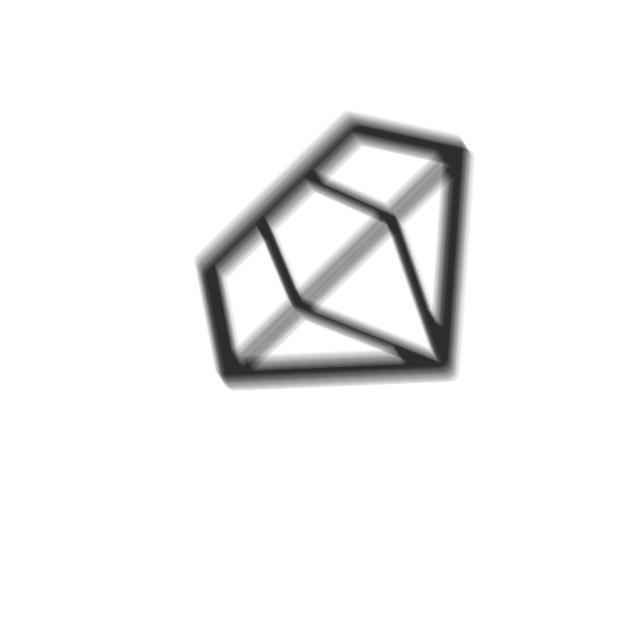diamond: (190, 104, 481, 397)
